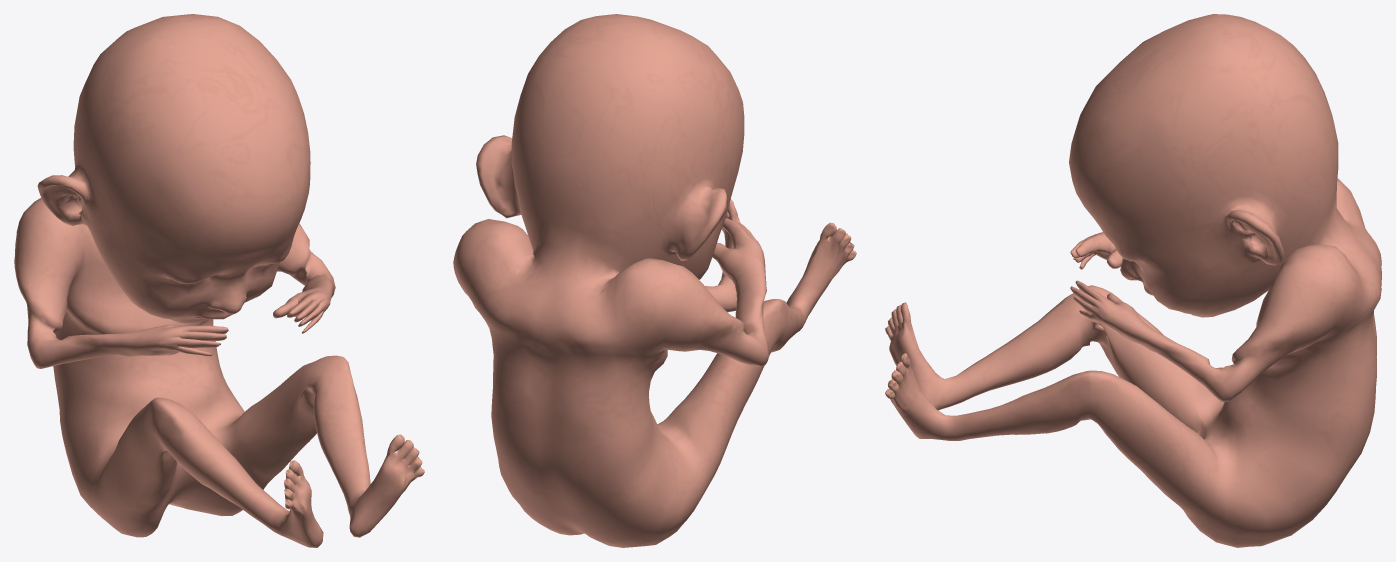
Rendered from pb-w20.0d06baf8.glb.
3 renders of one model, left to right at view 1: azimuth 30°, elevation 25°; view 2: azimuth 150°, elevation 25°; view 3: azimuth 270°, elevation 25°, orthographic.
Parts seen in each view (by area): view 1: Baby; view 2: Baby; view 3: Baby.
Boxes of the visible parts, left/top/right/bottom form: Baby: left=14, top=14, right=424, bottom=547; Baby: left=453, top=14, right=856, bottom=547; Baby: left=885, top=14, right=1381, bottom=547.
Bounding box in the file's own units: 0.1107 × 0.1783 × 0.1603.
1 material, 1 textured.
